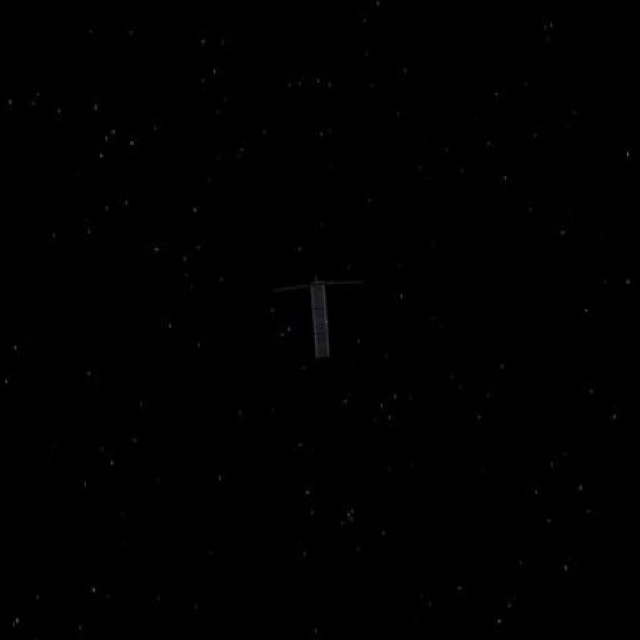satellite: (273, 264, 363, 368)
